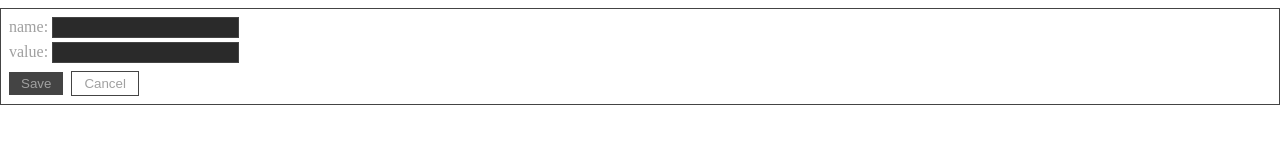
Test case: AddElementForm › enables save when custom validator passes
In the field with test id "input-name": [146, 28] box [52,17,239,38], type "unique"
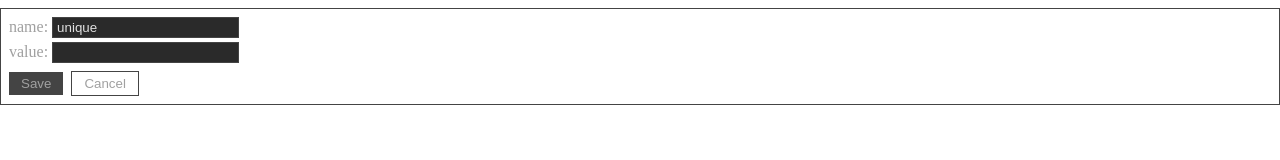
In the field with test id "input-value": [146, 52] box [52,42,239,63], type "something"
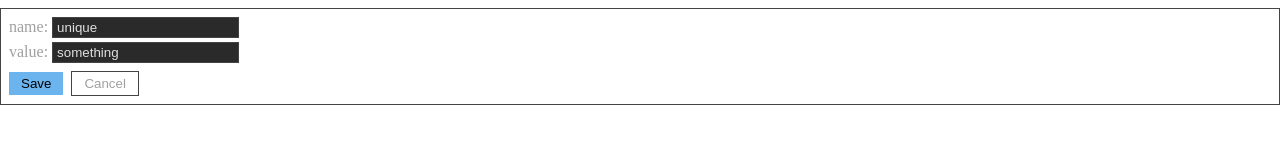
Check: the button with test id "save-button" is enabled, box [9,72,63,95]
